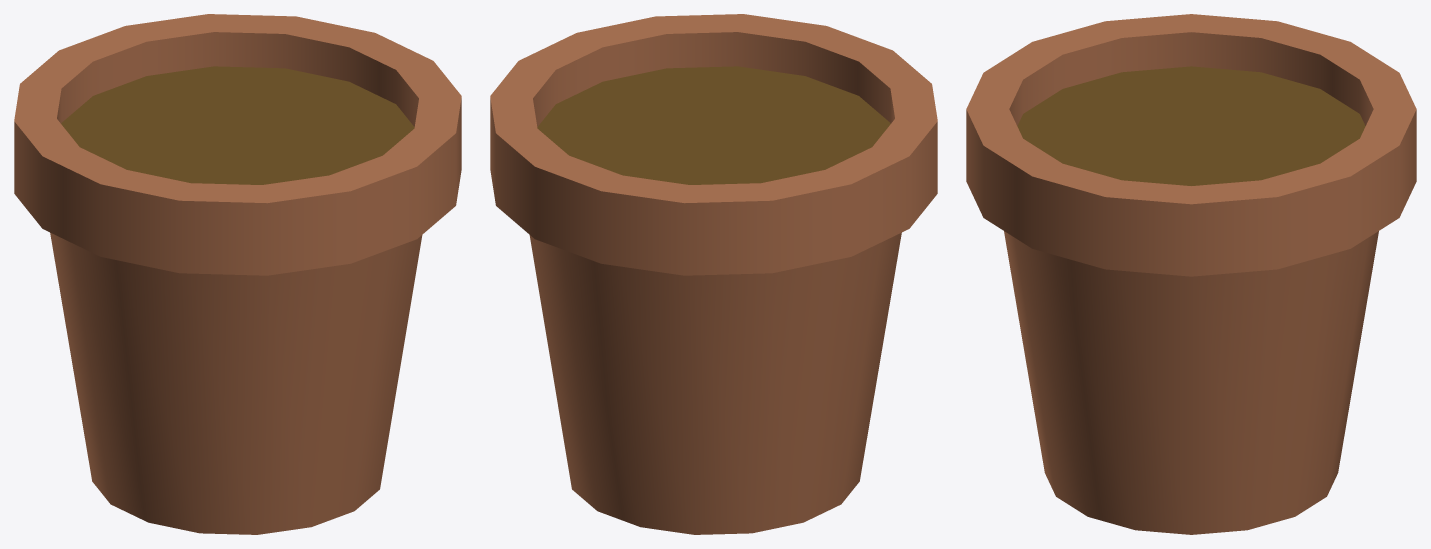
Rendered from PlantPot.glb.
The picture shows the model from 3 angles, left to right: view 1: azimuth 30°, elevation 25°; view 2: azimuth 150°, elevation 25°; view 3: azimuth 270°, elevation 25°; orthographic projection.
Visible parts, largest first — view 1: Pot; view 2: Pot; view 3: Pot.
Boxes of the visible parts, x1,y1,x2,y2 form: Pot: (14, 14, 461, 534); Pot: (490, 14, 937, 534); Pot: (966, 14, 1416, 534).
Bounding box in the file's own units: 0.8341 × 0.7436 × 0.8341.
